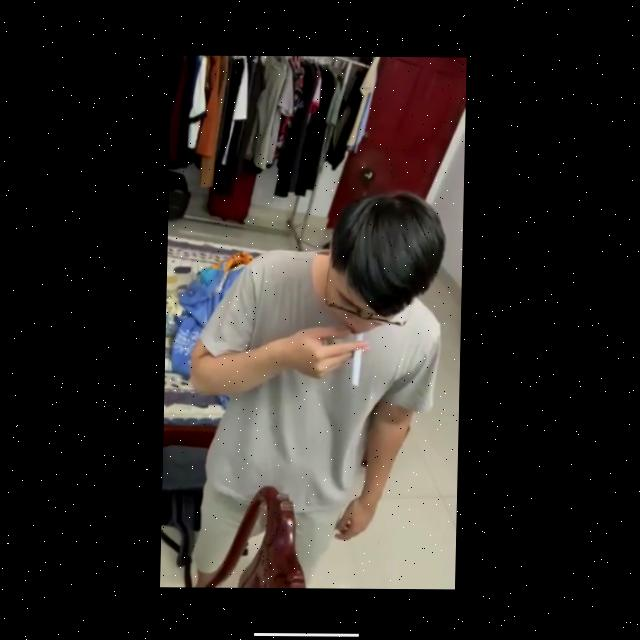cigarette: (351, 330, 365, 384)
